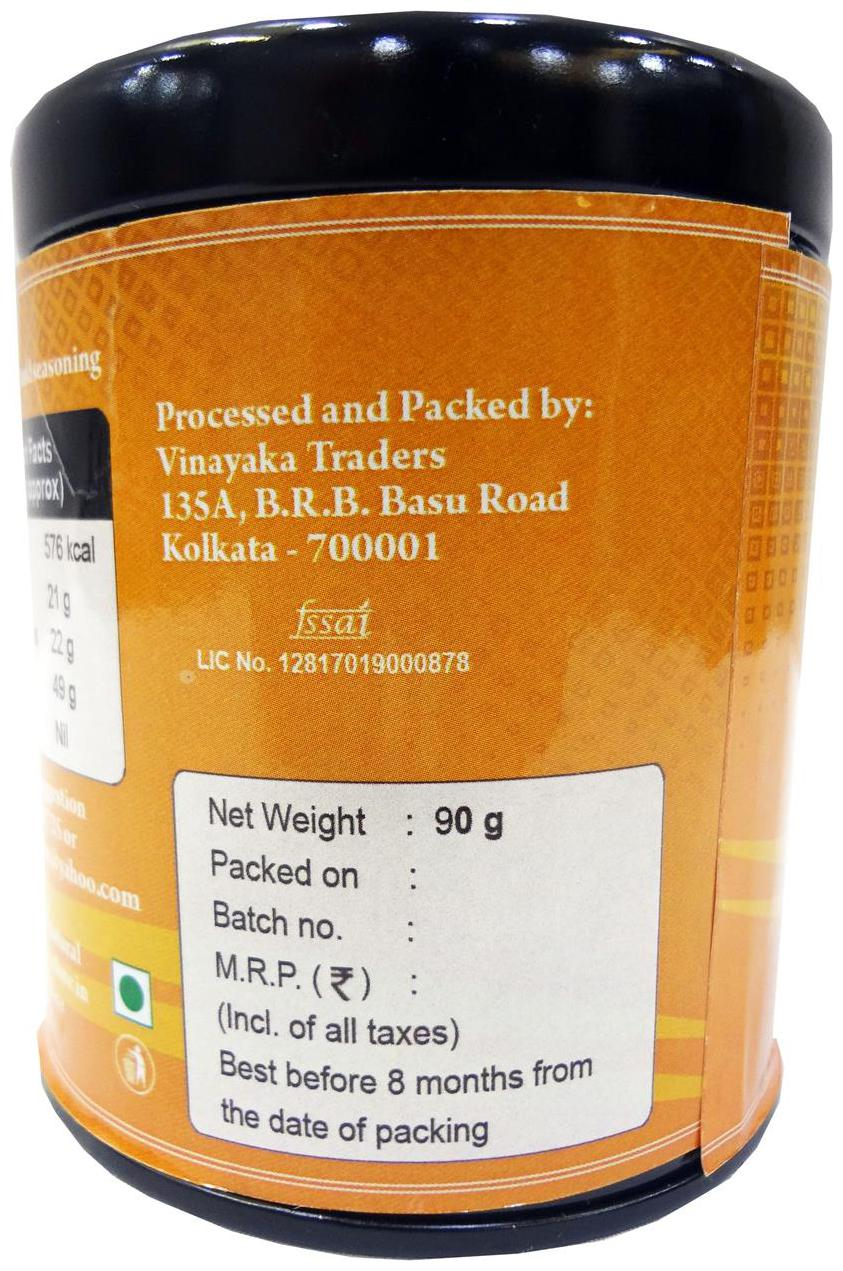fssai: (285, 596, 373, 643)
